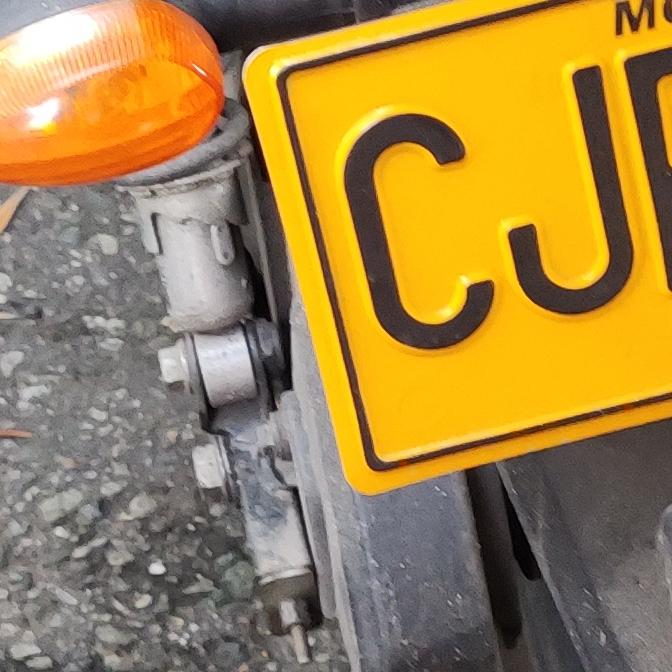plates: (247, 0, 672, 495)
